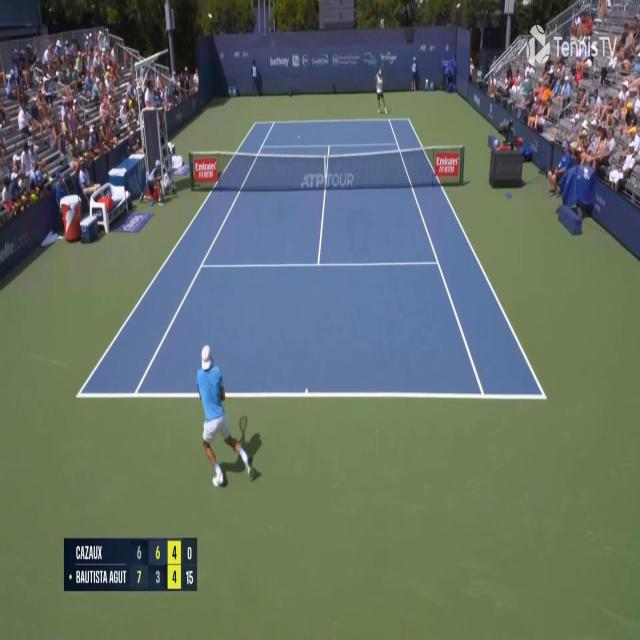tennis-player: (199, 342, 264, 494), (374, 67, 387, 114)
